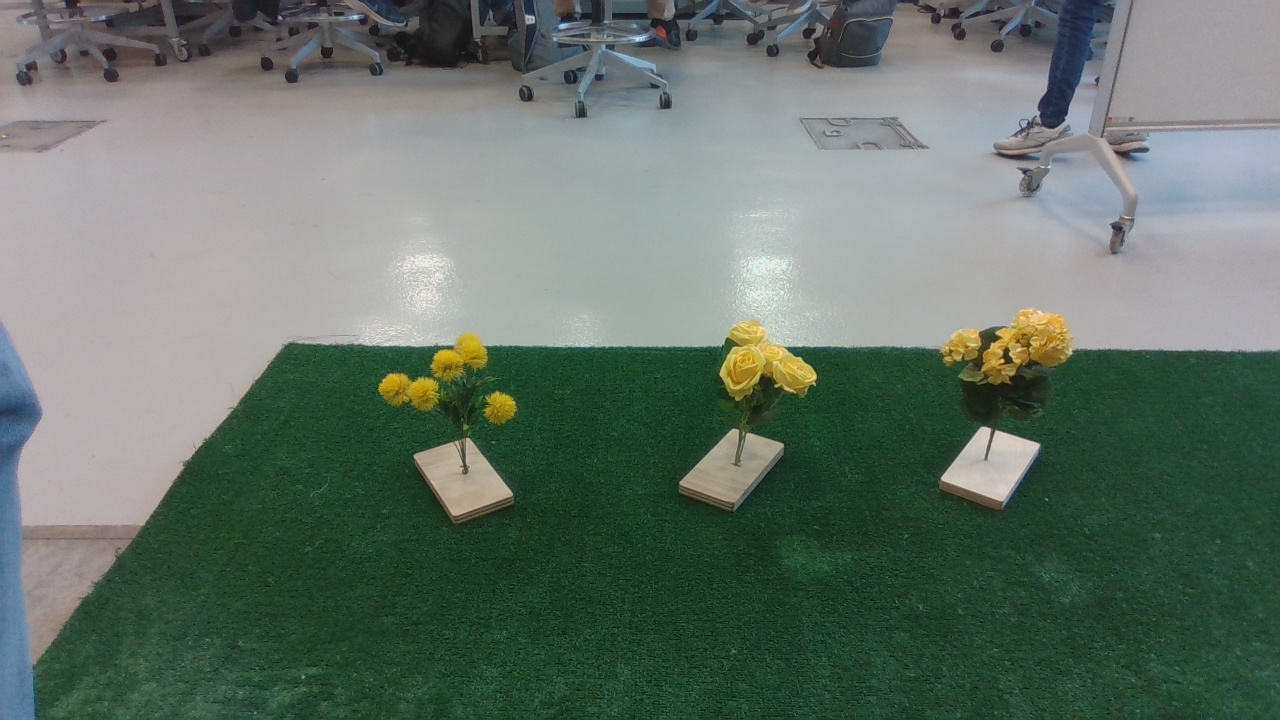dandelion: (380, 334, 553, 451)
geranium: (932, 309, 1083, 437)
rose: (695, 321, 836, 434)
